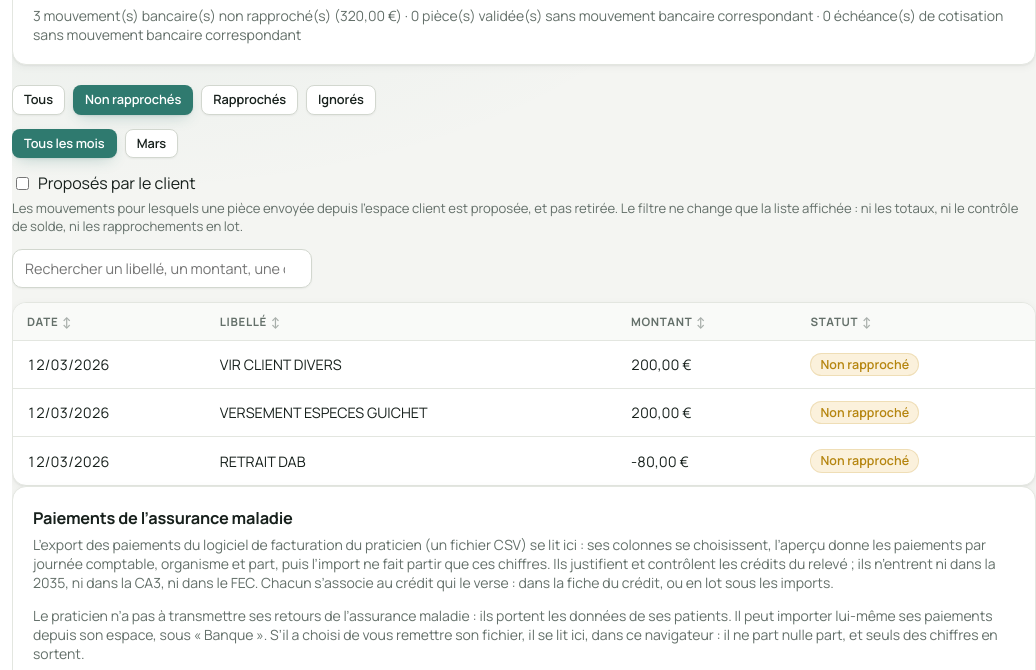
Test: un dossier qui ne tient pas de caisse — aucune opération, aucune ouverture : la fiche n’en parle pas › un crédit que rien ne relie aux espèces : ni solde, ni refus, ni « Versement d’espèces » — les autres comptes restent
(page scrolled)
Click the row "12/03/2026 VIR CLIENT DIVERS 200,00 € Non rapproché" at (524, 364), box [13,340,1035,388]
(page scrolled)
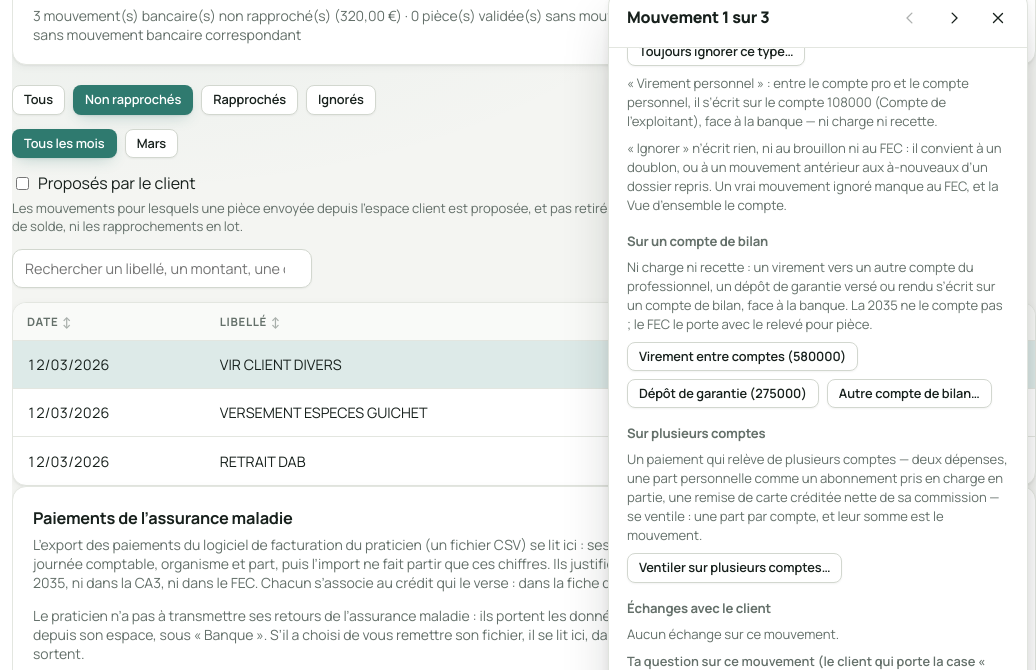
Expected: the heading "Sur un compte de bilan" is shown, [627,232,768,250]
Expected: the button "Dépôt de garantie (275000)" is shown, [627,379,819,408]
